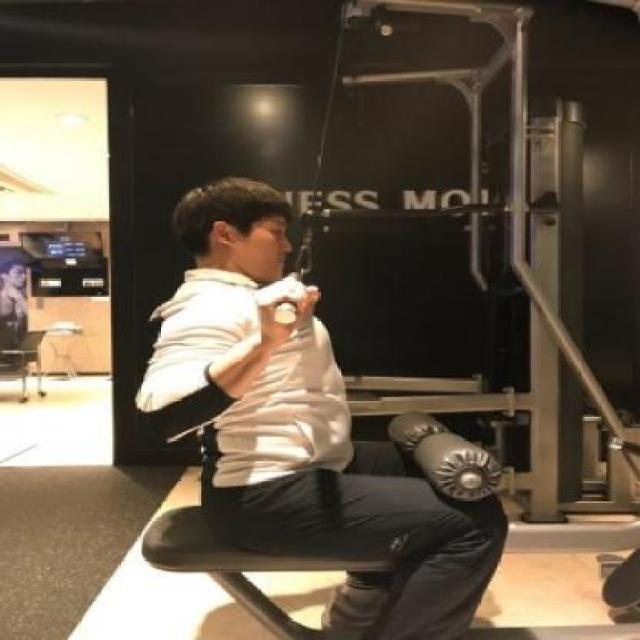Lat Pull Down: (92, 0, 639, 638)
